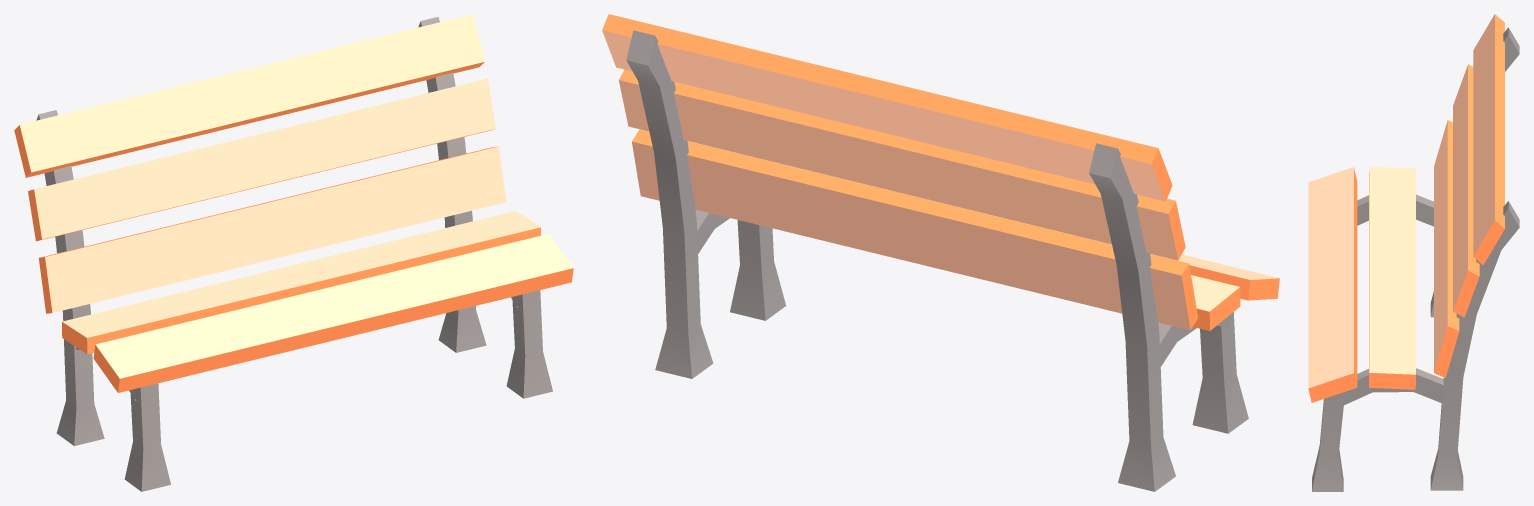
File: city2-bench-01.glb
3 renders of one model, left to right at view 1: azimuth 30°, elevation 25°; view 2: azimuth 150°, elevation 25°; view 3: azimuth 270°, elevation 25°, orthographic. The views are drawn at different scales.
Visible parts, largest first — view 1: Bench_01; view 2: Bench_01; view 3: Bench_01.
Boxes of the visible parts, x1,y1,x2,y2 form: Bench_01: (14, 14, 573, 491); Bench_01: (602, 14, 1279, 491); Bench_01: (1308, 14, 1519, 491).
Bounding box in the file's own units: 1.7 × 1.08 × 0.7362.
Materials: 1 (1 with a texture image).
